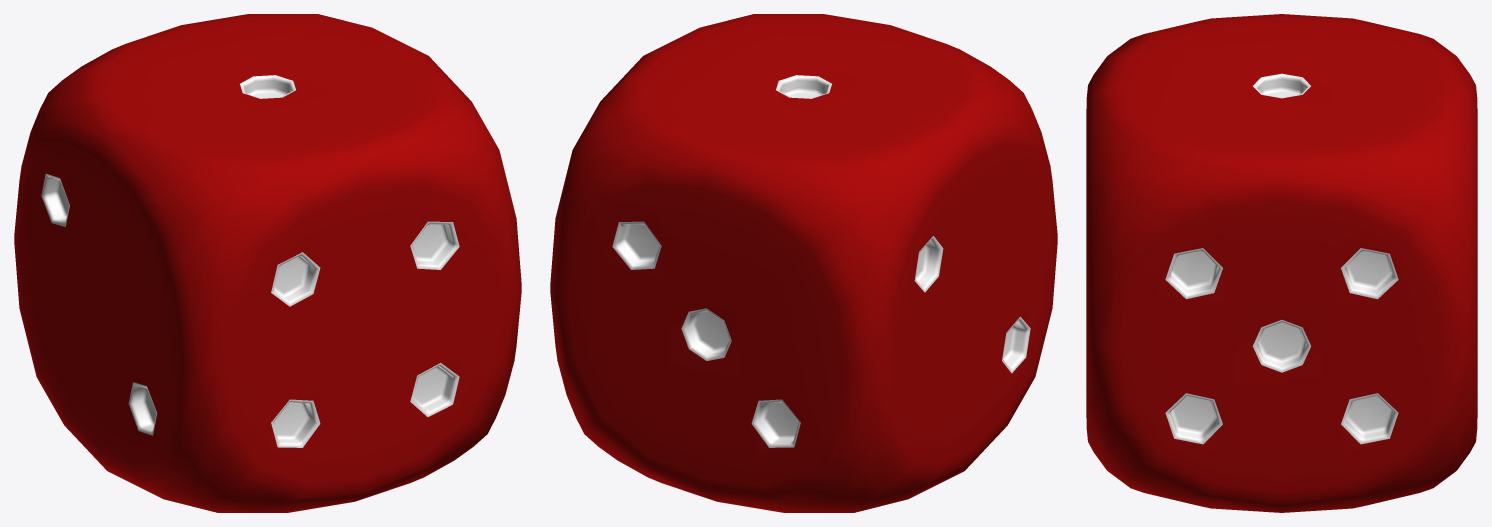
File: Dice.fbx
3 views of the same model, side by side, from view 1: azimuth 30°, elevation 25°; view 2: azimuth 150°, elevation 25°; view 3: azimuth 270°, elevation 25° (orthographic).
Parts seen in each view (by area): view 1: Dice; view 2: Dice; view 3: Dice.
Boxes of the visible parts, x1,y1,x2,y2 form: Dice: (14,14,521,512); Dice: (550,14,1057,512); Dice: (1086,14,1477,512).
Size of the model in its own units: 100 by 100 by 100.
